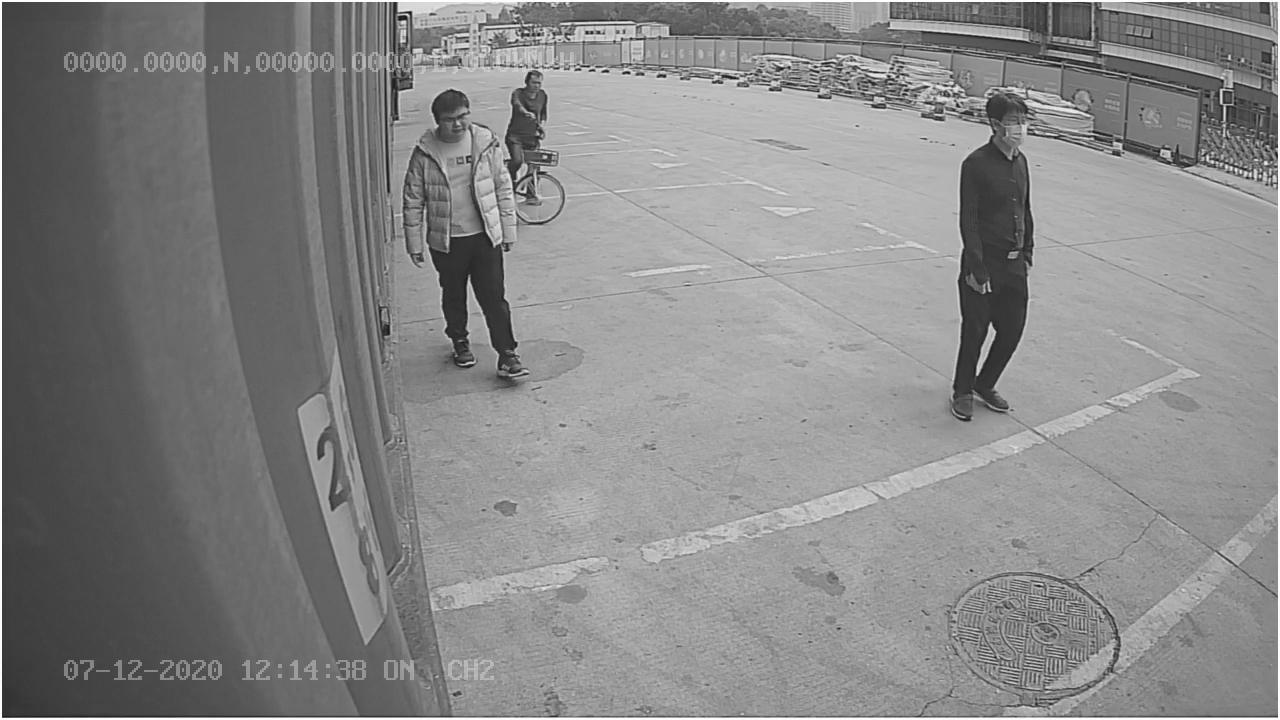person: (950, 82, 1037, 421)
